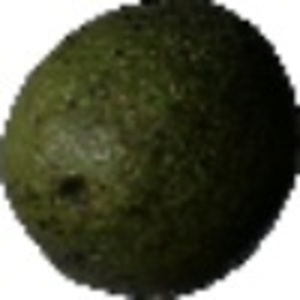abacate: (1, 2, 297, 298)
